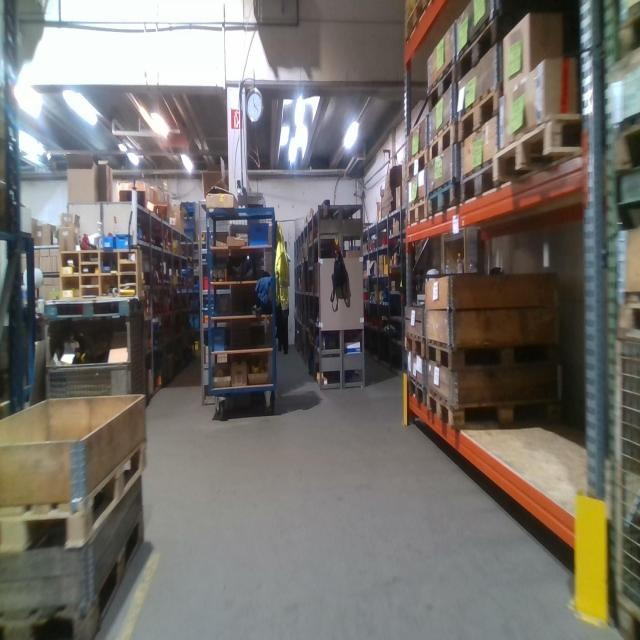pallet: (1, 511, 147, 639), (1, 431, 148, 553), (493, 109, 585, 187), (428, 390, 557, 435), (423, 330, 558, 372), (455, 18, 517, 87), (458, 79, 506, 147), (460, 158, 500, 207), (428, 57, 457, 116), (428, 120, 462, 164), (429, 177, 461, 221), (615, 292, 636, 342), (406, 143, 429, 184), (405, 374, 427, 412), (400, 328, 426, 354), (407, 196, 427, 229)
small_load_carrier: (248, 221, 270, 248)
stillage: (603, 326, 639, 639)
